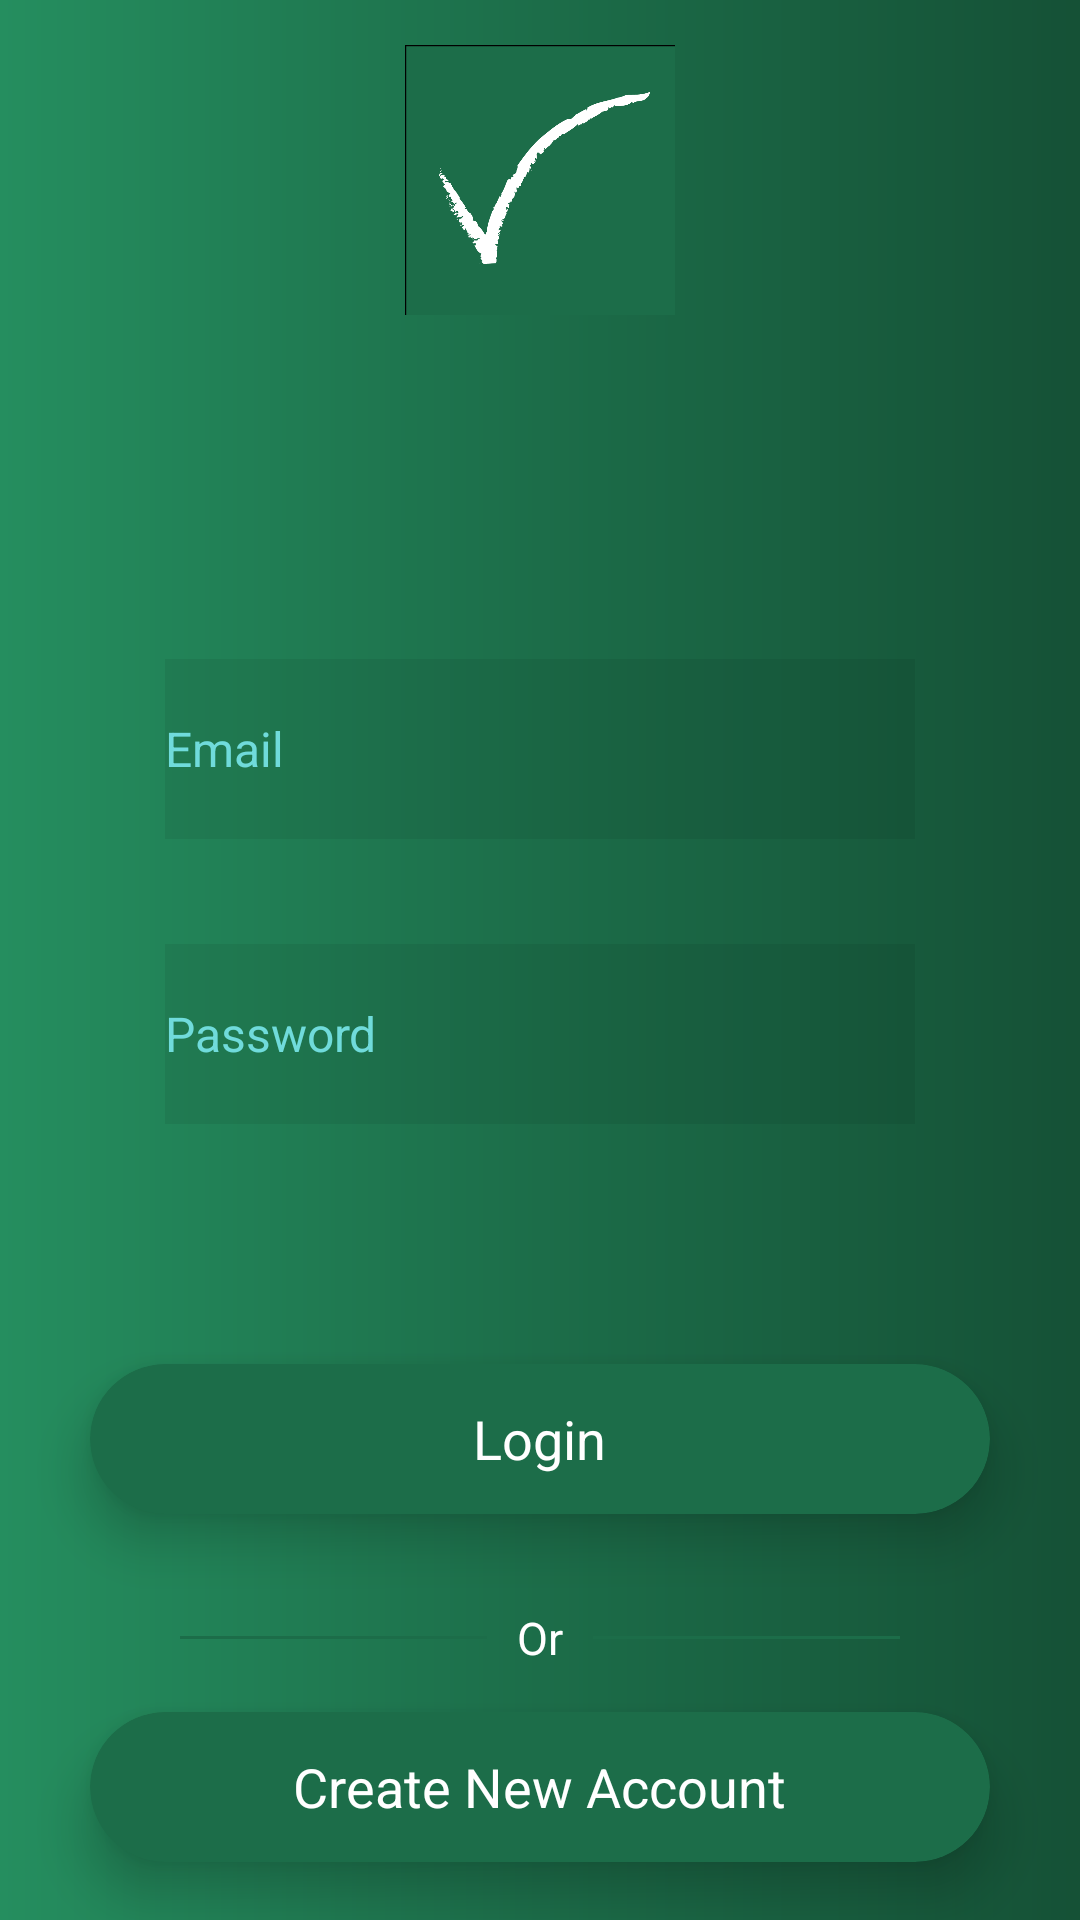

Icons on this 1080w x 1920h Android screen, each with its box as (x1, y1, x2, y2):
checkin: (405, 45, 675, 315)
